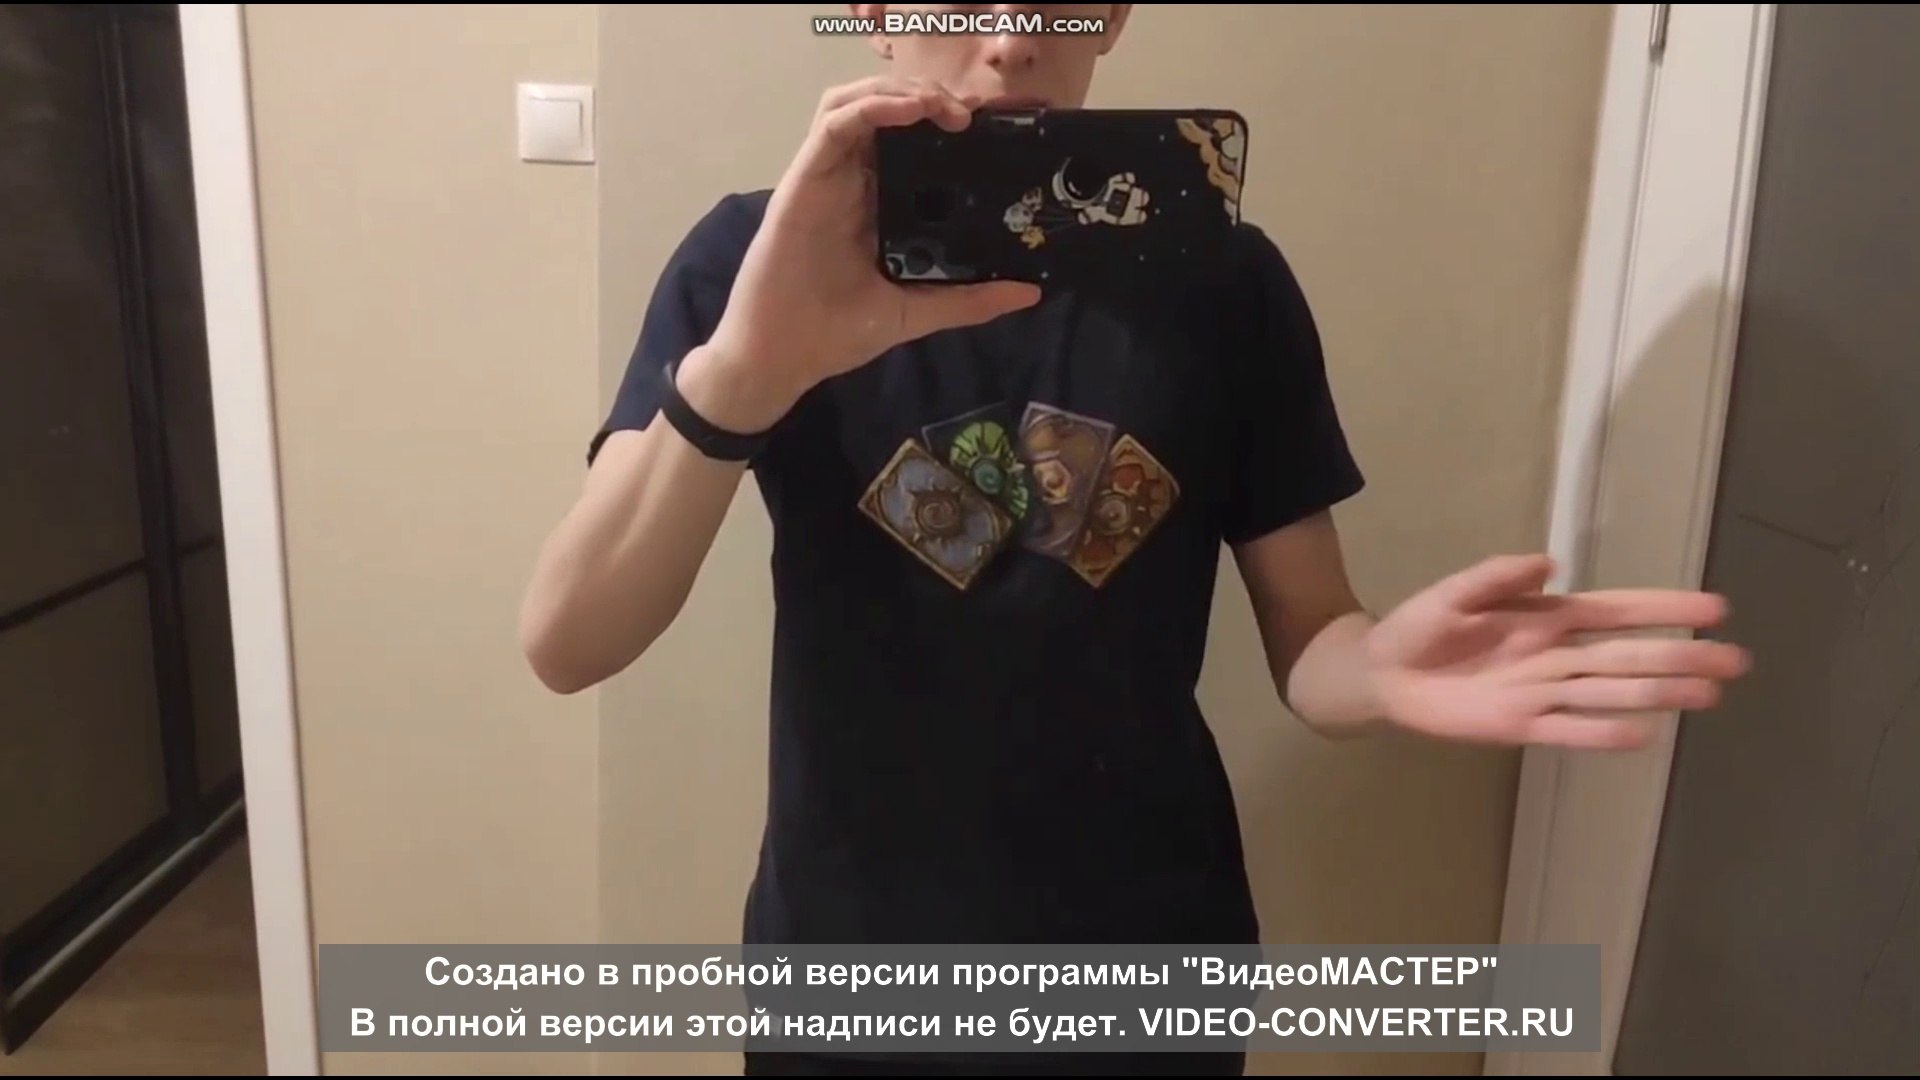Ладонь: (1379, 549, 1743, 750)
